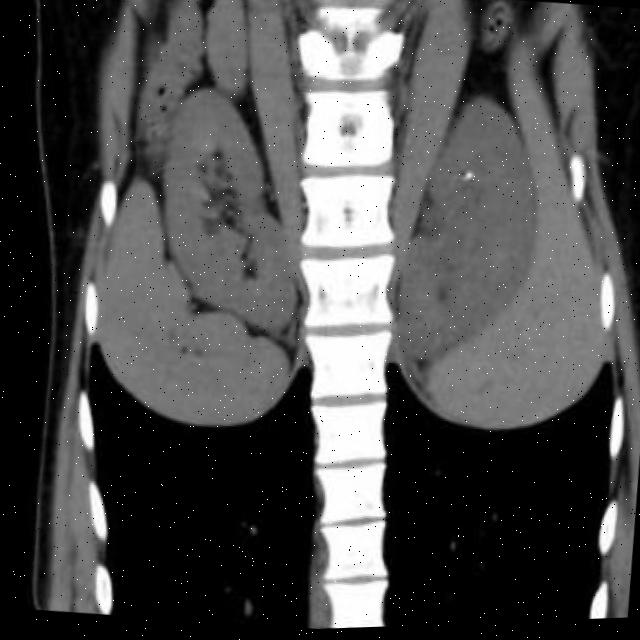Tas_Var: (464, 169, 477, 187)
